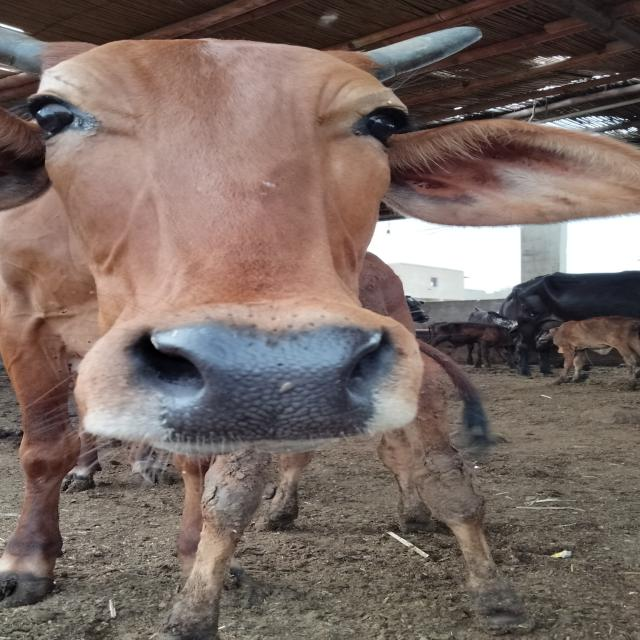muzzles: (110, 309, 417, 447)
